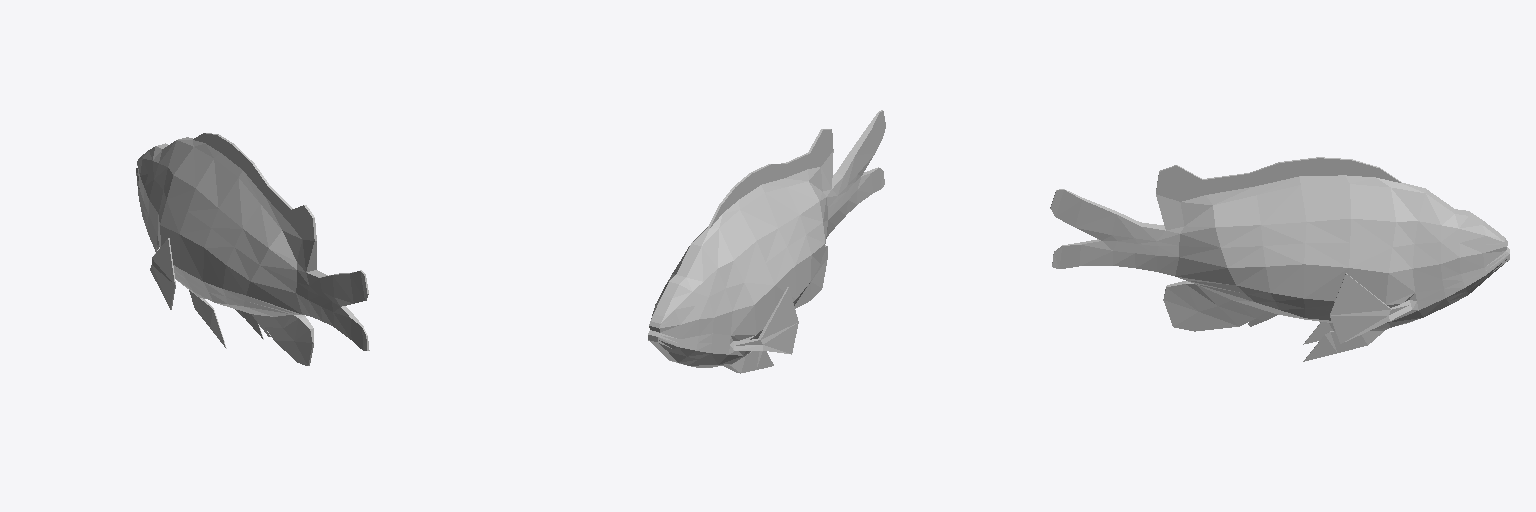
Rendered from TropicalFish7.obj.
The picture shows the model from 3 angles: view 1: azimuth 30°, elevation 25°; view 2: azimuth 150°, elevation 25°; view 3: azimuth 270°, elevation 25°; orthographic projection.
Parts seen in each view (by area): view 1: TropicalFish07; view 2: TropicalFish07; view 3: TropicalFish07.
Part boxes in pixels (x1,y1,x2,y2): TropicalFish07: (136, 133, 369, 365); TropicalFish07: (648, 110, 885, 373); TropicalFish07: (1050, 157, 1509, 361).
Bounding box in the file's own units: 0.209 × 0.3474 × 0.7435.